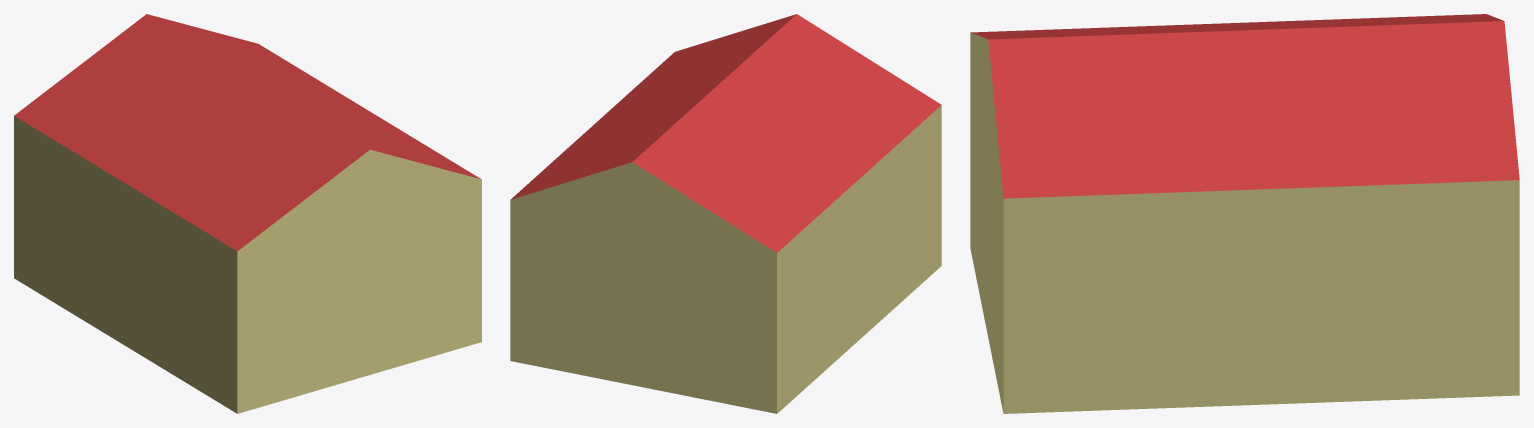
3 views of the same model, side by side, from view 1: azimuth 30°, elevation 25°; view 2: azimuth 150°, elevation 25°; view 3: azimuth 270°, elevation 25° (orthographic). The views are drawn at different scales.
Visible parts, largest first — view 1: group_4, group_3; view 2: group_4, group_3; view 3: group_4, group_3.
Boxes of the visible parts, left/top/right/bottom form: group_4: left=14, top=116, right=481, bottom=413; group_3: left=14, top=14, right=480, bottom=251; group_4: left=510, top=105, right=941, bottom=413; group_3: left=510, top=14, right=941, bottom=252; group_4: left=970, top=32, right=1519, bottom=413; group_3: left=970, top=14, right=1519, bottom=198.
Size of the model in its own units: 7.54 by 9.49 by 5.68.
